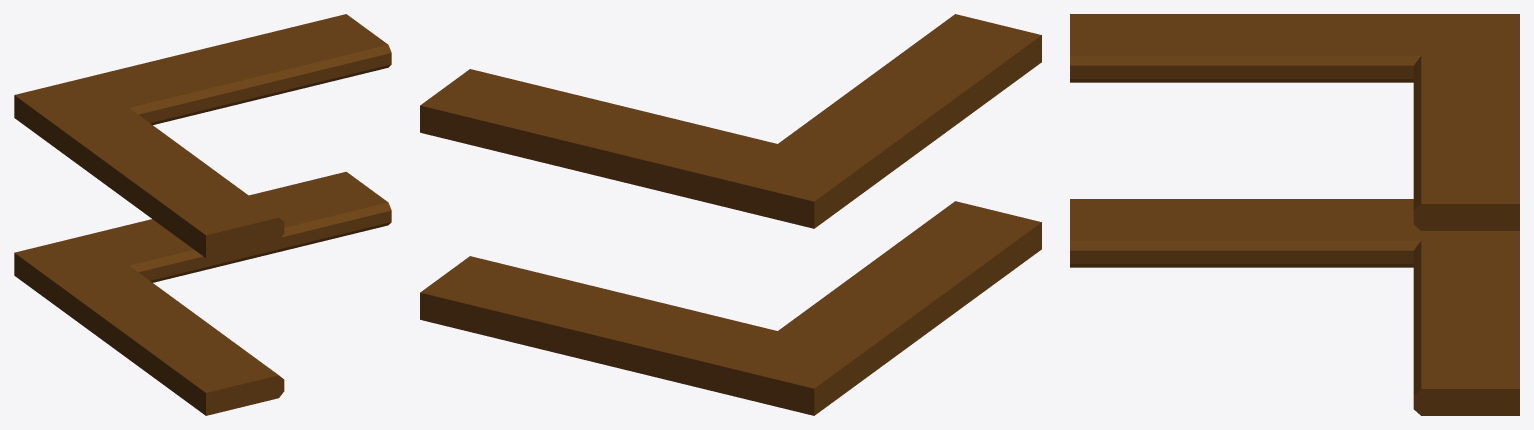
The model's file is SM_Shelves_Corner_Inner_v2.fbx.
3 renders of one model, left to right at view 1: azimuth 30°, elevation 25°; view 2: azimuth 150°, elevation 25°; view 3: azimuth 270°, elevation 25°, orthographic. The views are drawn at different scales.
Parts seen in each view (by area): view 1: SM_Shelves_Corner_Inner_v2; view 2: SM_Shelves_Corner_Inner_v2; view 3: SM_Shelves_Corner_Inner_v2.
Boxes of the visible parts, left/top/right/bottom form: SM_Shelves_Corner_Inner_v2: left=14, top=14, right=391, bottom=415; SM_Shelves_Corner_Inner_v2: left=420, top=14, right=1041, bottom=415; SM_Shelves_Corner_Inner_v2: left=1070, top=14, right=1519, bottom=415.
Bounding box in the file's own units: 100 × 51.95 × 100.
